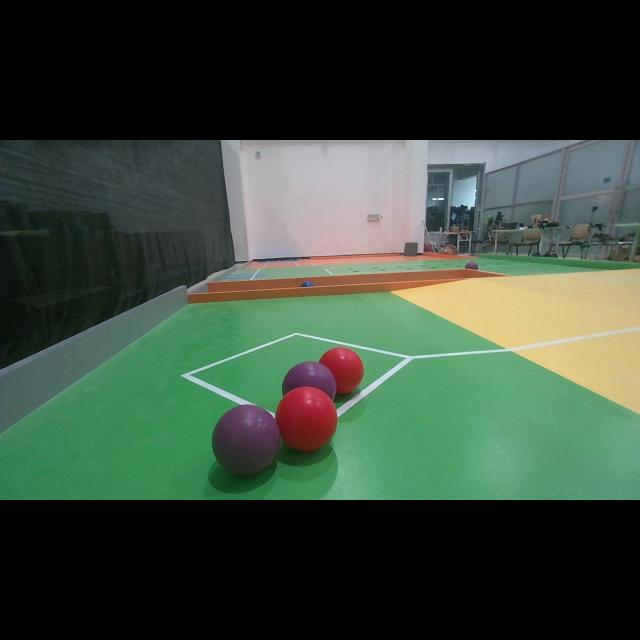P: (212, 405, 280, 477), (278, 359, 336, 401), (464, 260, 478, 270)
R: (275, 386, 337, 452), (318, 347, 364, 393)
